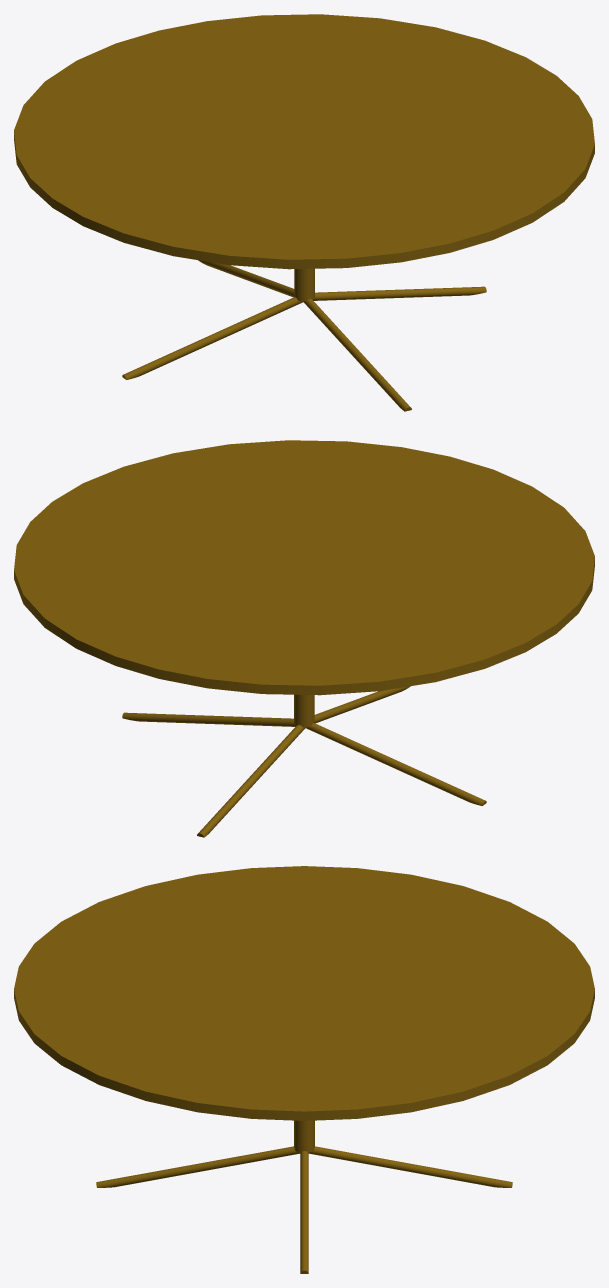
Rendered from table-06.gltf.
3 views of the same model, one above another, from view 1: azimuth 30°, elevation 25°; view 2: azimuth 150°, elevation 25°; view 3: azimuth 270°, elevation 25° (orthographic).
Visible parts, largest first — view 1: object_3, object_2, object_1; view 2: object_3, object_2, object_1; view 3: object_3, object_2, object_1.
Boxes of the visible parts, left/top/right/bottom form: object_3: left=14, top=14, right=594, bottom=269; object_2: left=122, top=260, right=486, bottom=411; object_1: left=294, top=268, right=314, bottom=301; object_3: left=14, top=440, right=594, bottom=695; object_2: left=122, top=686, right=486, bottom=837; object_1: left=294, top=694, right=314, bottom=727; object_3: left=14, top=866, right=594, bottom=1120; object_2: left=96, top=1146, right=512, bottom=1273; object_1: left=294, top=1120, right=314, bottom=1152.
Bounding box in the file's own units: 70 × 26.25 × 70.
